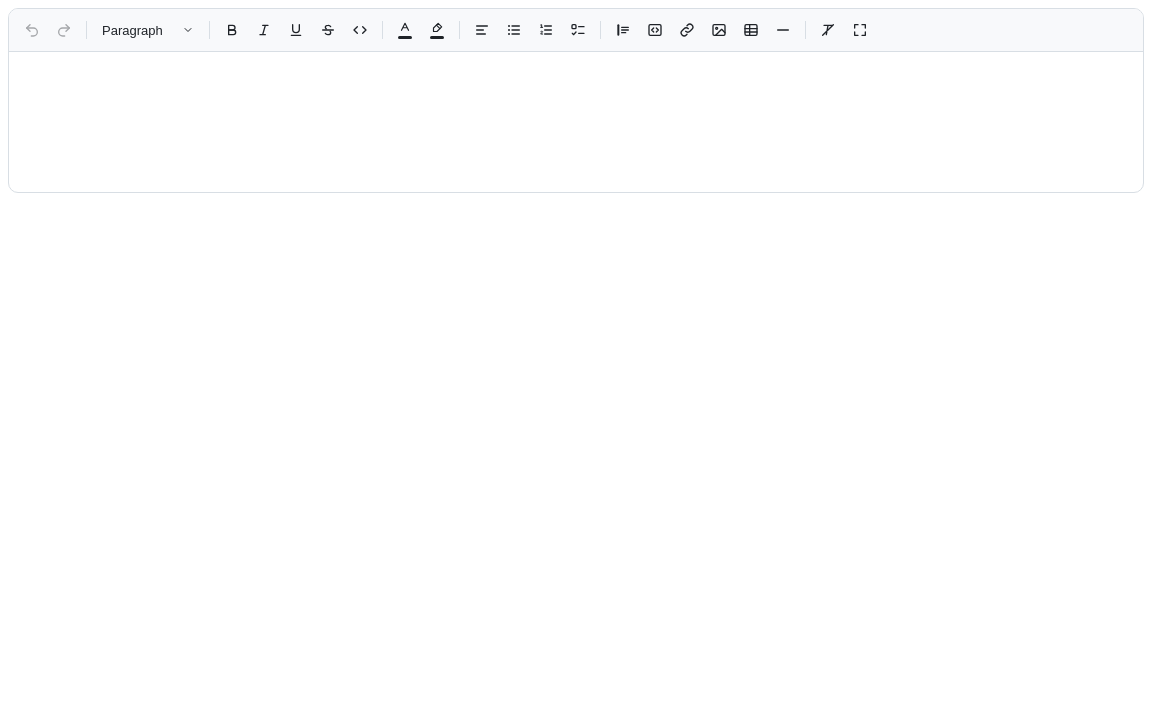
Test: RichTextEditor › hides upload when no onImageUpload is given
Expected: the field with class "richkit-content" is shown, 9,52 -> 1143,192
Click the button named "Image": (719, 30) 704,15 -> 734,45
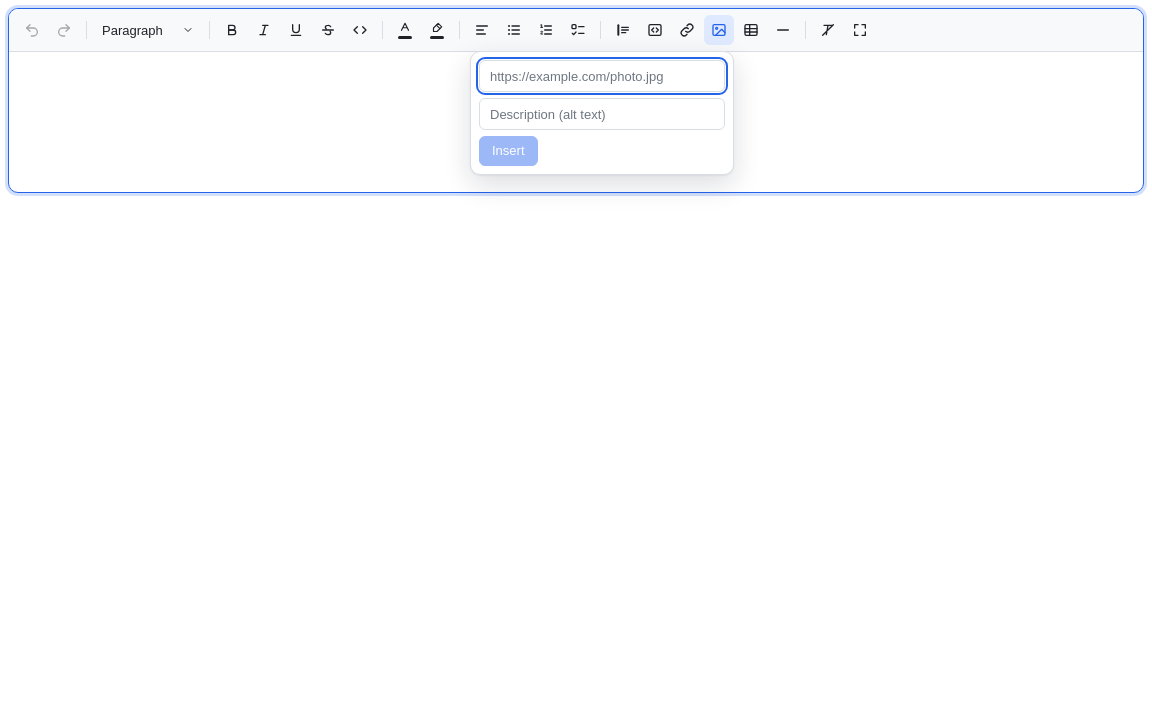
Expected: the field named "Image URL" is shown, 479,60 -> 725,92
